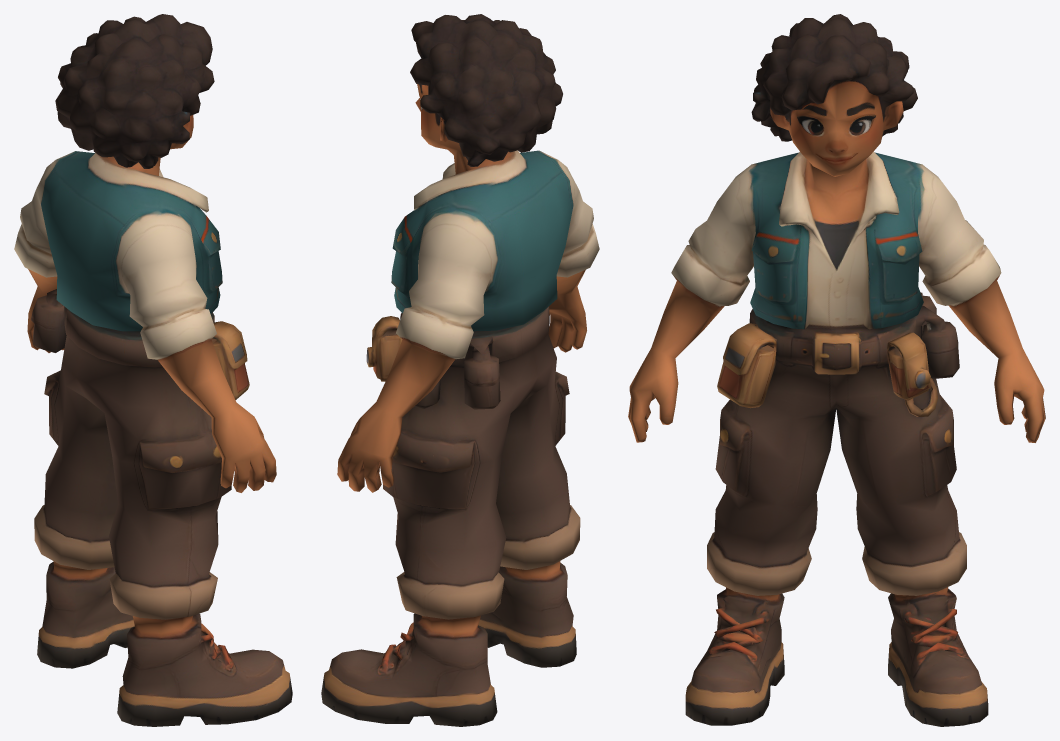
3 renders of one model, left to right at view 1: azimuth 30°, elevation 25°; view 2: azimuth 150°, elevation 25°; view 3: azimuth 270°, elevation 25°, orthographic.
Visible parts, largest first — view 1: Model; view 2: Model; view 3: Model.
Boxes of the visible parts, x1,y1,x2,y2 form: Model: (14, 14, 292, 726); Model: (321, 14, 599, 726); Model: (628, 14, 1045, 726).
Size of the model in its own units: 0.2637 by 0.998 by 0.5684.
1 material, 1 textured.
